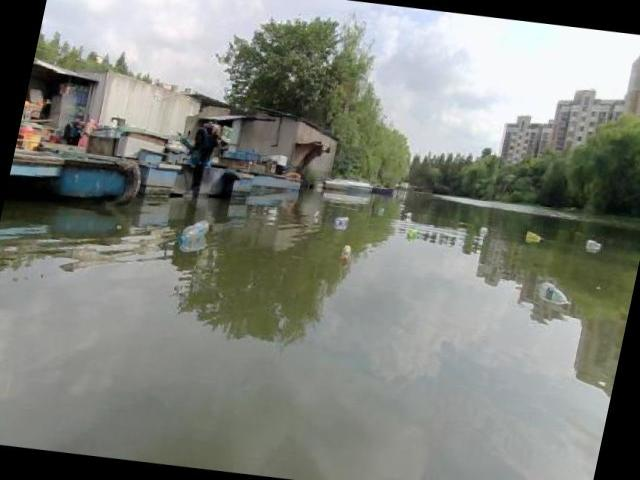Bottle: (529, 275, 577, 317), (175, 218, 212, 247), (400, 228, 425, 244), (336, 244, 354, 264), (332, 214, 354, 230)
